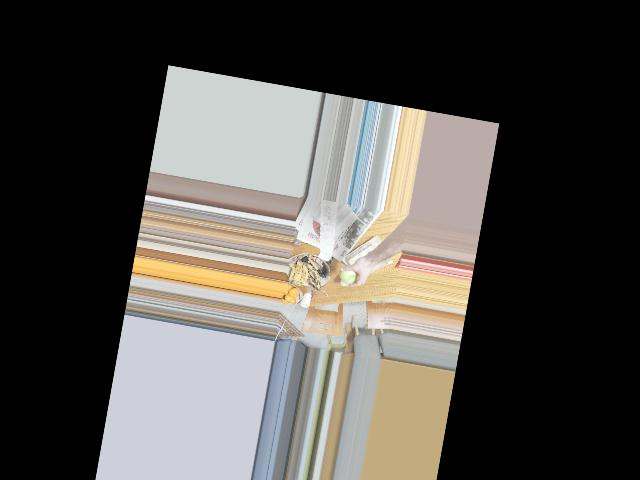apple: (337, 263, 361, 288)
